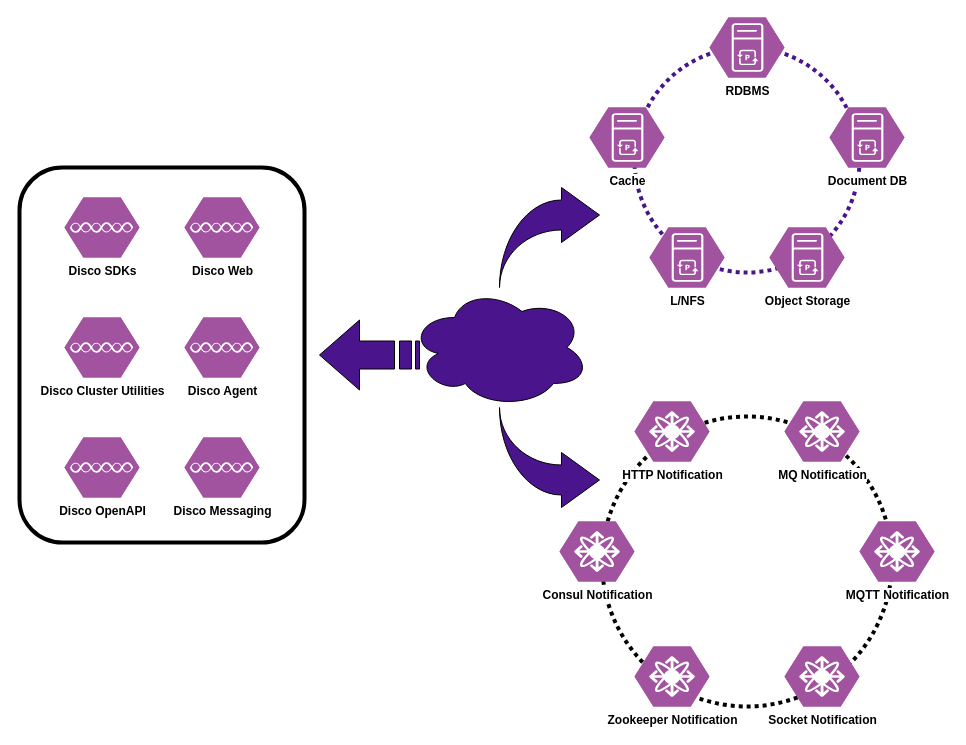
The diagram is 966 pixels wide and 745 high, and some of its shapes have lost their labels. The box of each missing label's shape, as (x1, y1, x2, y2) in pixels:
Disco Application: (17, 165, 306, 544)
Disco Notification Adapter Providers: (600, 414, 894, 708)
Disco Storage Providers: (632, 45, 861, 274)
Disco 服务器 Disco.Serverd: (408, 286, 590, 408)
